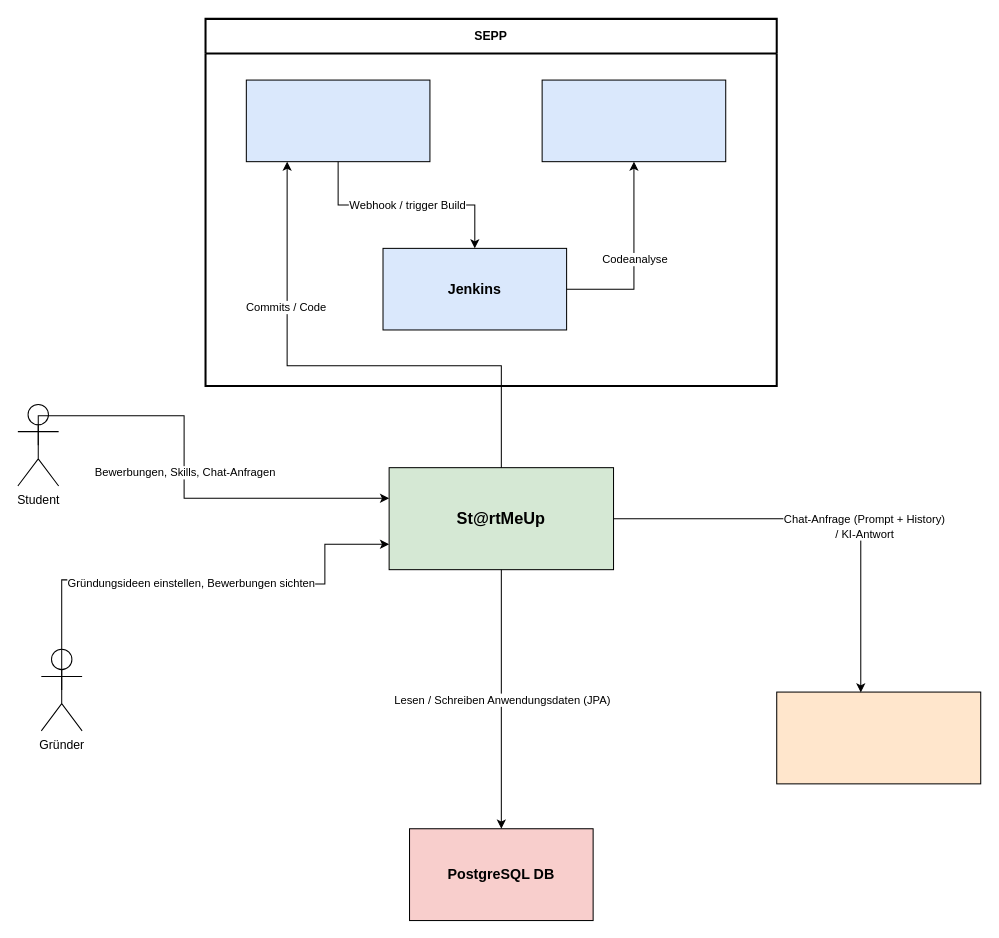
This 999x938 diagram has some shape labels left out. The shapes that lost their labels are listed below. From the top down, each one's centre as x and y in pixels, then its label:
At [337,120]: "GitLab".
At [633,120]: "SonarQube".
At [878,737]: "KI:connect".
